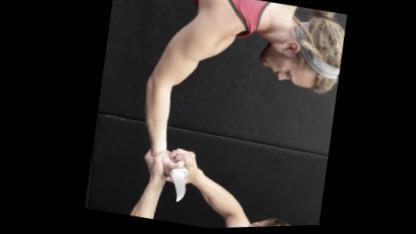knife: (154, 148, 196, 209)
